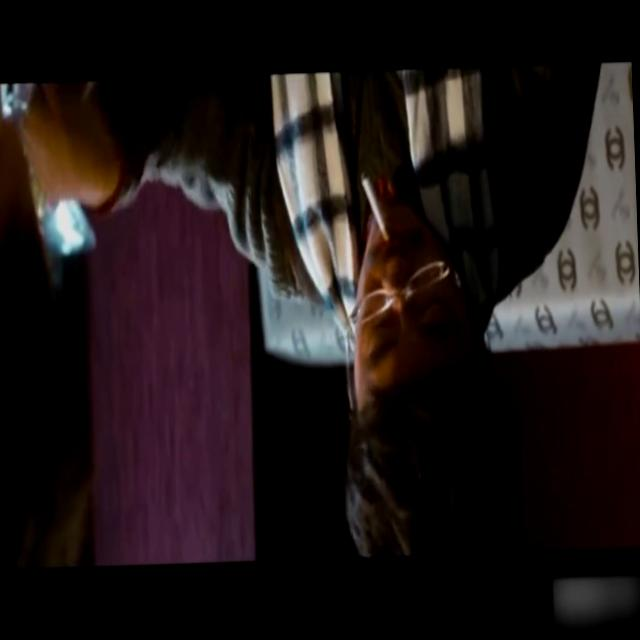smoke: (351, 165, 396, 242)
